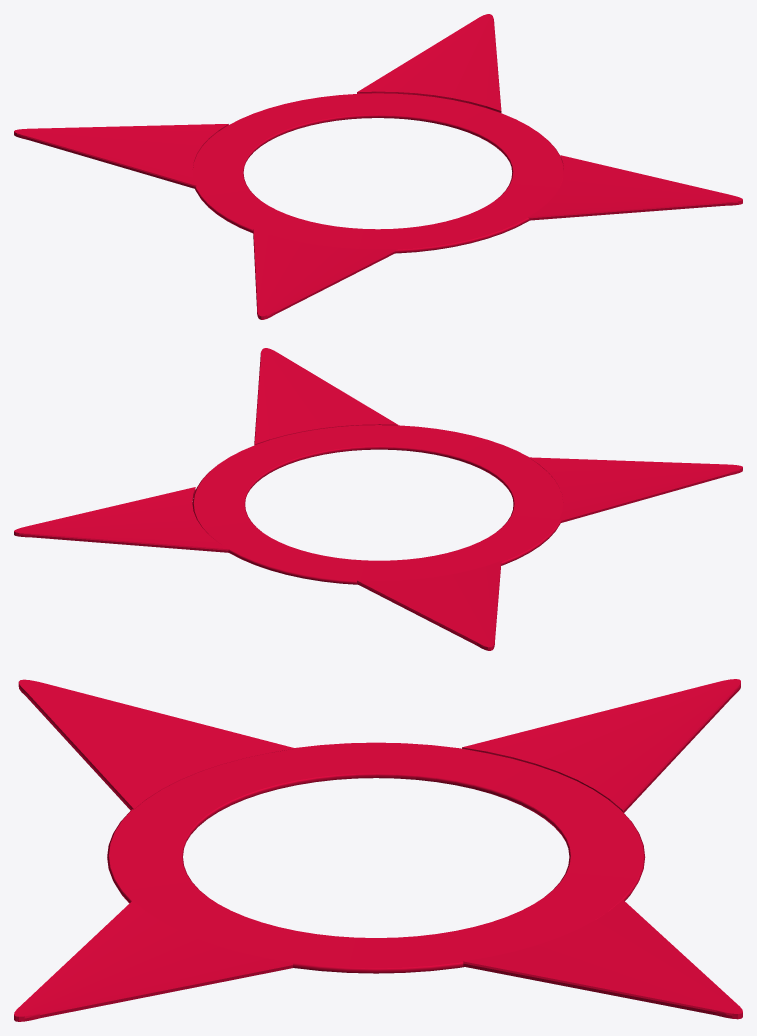
Rendered from Code_Cylinder_Wheel_04.fbx.
3 renders of one model, top to bottom at view 1: azimuth 30°, elevation 25°; view 2: azimuth 150°, elevation 25°; view 3: azimuth 270°, elevation 25°, orthographic. The views are drawn at different scales.
Parts seen in each view (by area): view 1: Code_Cylinder_Wheel_04; view 2: Code_Cylinder_Wheel_04; view 3: Code_Cylinder_Wheel_04.
Boxes of the visible parts, left/top/right/bottom form: Code_Cylinder_Wheel_04: left=14, top=14, right=742, bottom=319; Code_Cylinder_Wheel_04: left=14, top=348, right=742, bottom=650; Code_Cylinder_Wheel_04: left=14, top=679, right=742, bottom=1021.
Bounding box in the file's own units: 143 × 2.89 × 130.
